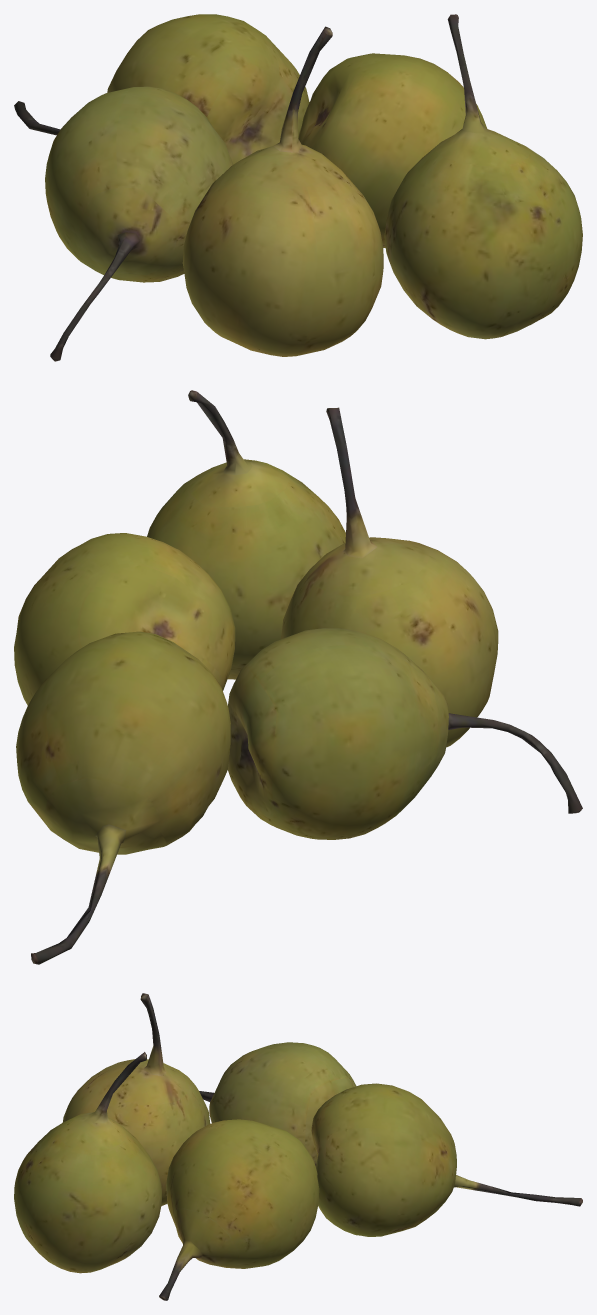
Rendered from food_pears_asian_01.glb.
3 views of the same model, one above another, from view 1: azimuth 30°, elevation 25°; view 2: azimuth 150°, elevation 25°; view 3: azimuth 270°, elevation 25° (orthographic). The views are drawn at different scales.
Parts seen in each view (by area): view 1: food_pears_asian_01_c, food_pears_asian_01_e, food_pears_asian_01_a, food_pears_asian_01_d, food_pears_asian_01_b; view 2: food_pears_asian_01_b, food_pears_asian_01_a, food_pears_asian_01_c, food_pears_asian_01_e, food_pears_asian_01_d; view 3: food_pears_asian_01_d, food_pears_asian_01_b, food_pears_asian_01_e, food_pears_asian_01_a, food_pears_asian_01_c.
Part boxes in pixels (<box>): food_pears_asian_01_c: <box>182,26,383,356</box>; food_pears_asian_01_e: <box>384,14,582,339</box>; food_pears_asian_01_a: <box>45,86,233,361</box>; food_pears_asian_01_d: <box>298,53,487,247</box>; food_pears_asian_01_b: <box>14,14,309,164</box>; food_pears_asian_01_b: <box>16,631,230,964</box>; food_pears_asian_01_a: <box>227,628,582,839</box>; food_pears_asian_01_c: <box>281,407,498,747</box>; food_pears_asian_01_e: <box>147,390,345,679</box>; food_pears_asian_01_d: <box>14,533,235,705</box>; food_pears_asian_01_d: <box>159,1119,319,1300</box>; food_pears_asian_01_b: <box>311,1083,582,1236</box>; food_pears_asian_01_e: <box>14,1052,161,1273</box>; food_pears_asian_01_a: <box>199,1042,356,1166</box>; food_pears_asian_01_c: <box>62,993,210,1205</box>.
Bounding box in the file's own units: 0.1261 × 0.0709 × 0.1669.
1 material, 1 textured.
